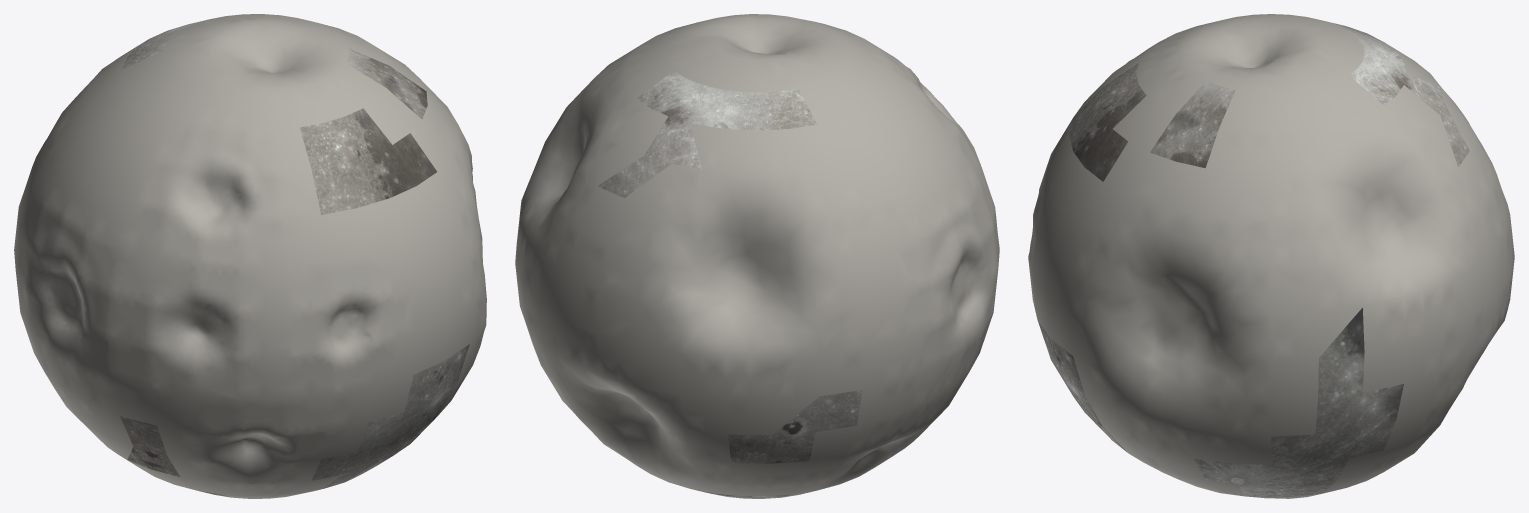
File: moon.glb
The picture shows the model from 3 angles, left to right: view 1: azimuth 30°, elevation 25°; view 2: azimuth 150°, elevation 25°; view 3: azimuth 270°, elevation 25°; orthographic projection.
Visible parts, largest first — view 1: Sphere; view 2: Sphere; view 3: Sphere.
Boxes of the visible parts, x1,y1,x2,y2 form: Sphere: [14, 14, 486, 498]; Sphere: [515, 14, 999, 498]; Sphere: [1028, 14, 1514, 498].
Size of the model in its own units: 1.99 by 1.97 by 2.
Materials: 1 (1 with a texture image).
